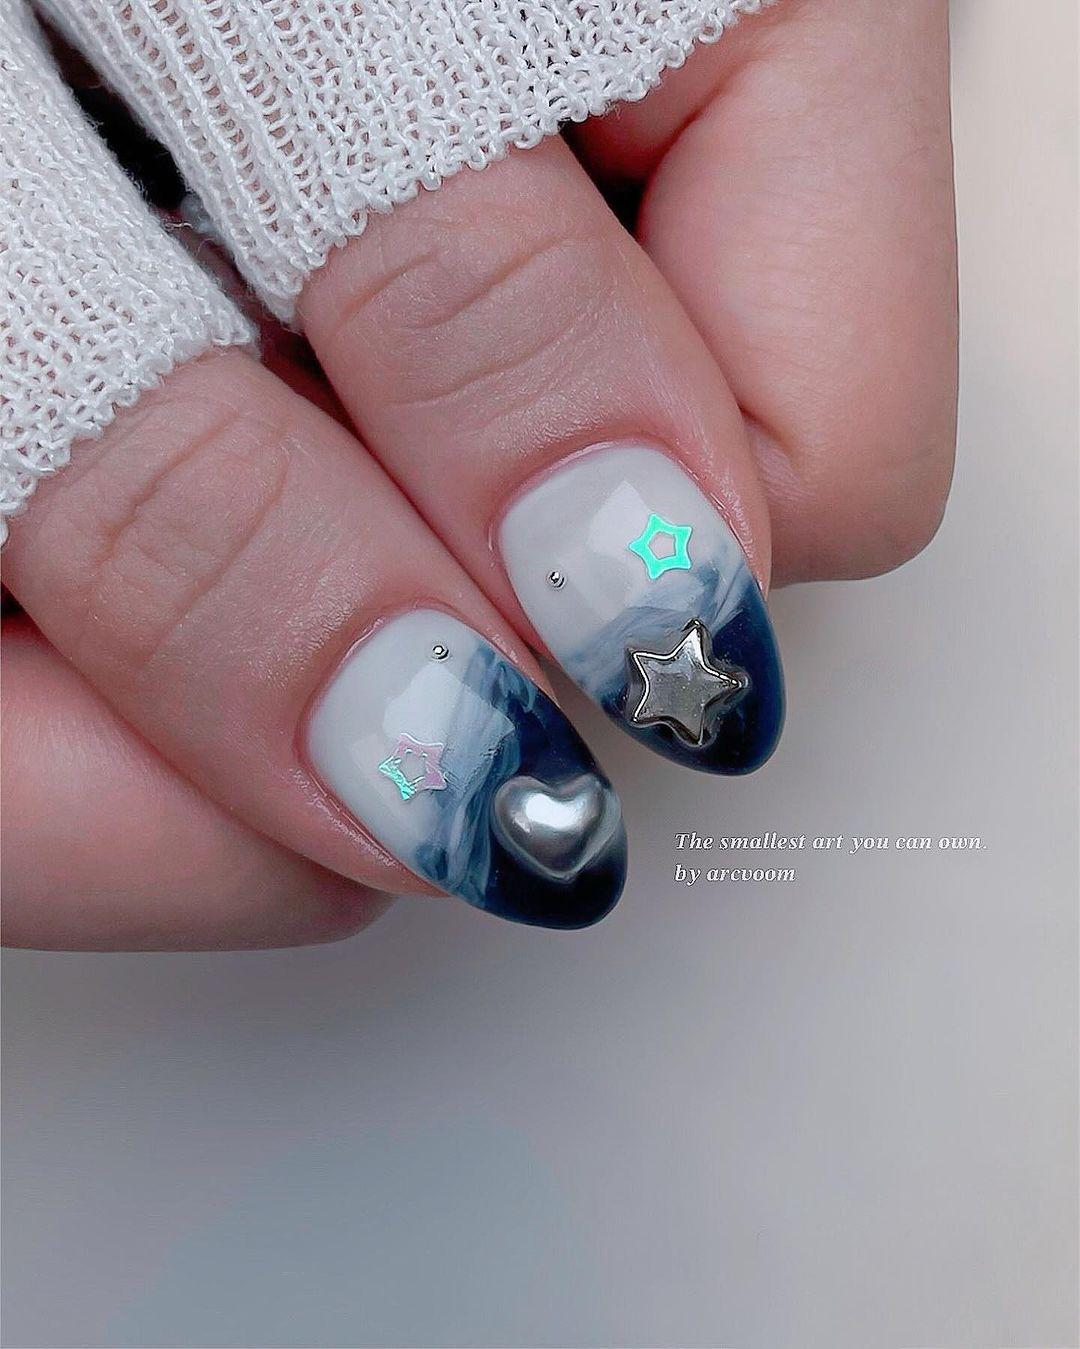nail: (1, 339, 629, 932), (295, 601, 628, 931), (490, 434, 787, 778)
